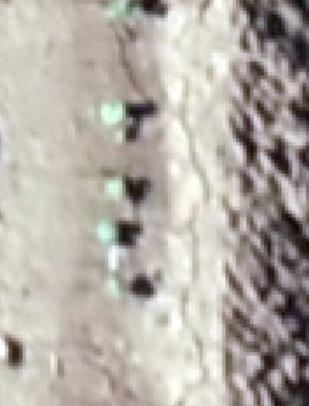cotton: (106, 2, 137, 17), (102, 103, 125, 123), (97, 223, 116, 246), (105, 275, 124, 296), (104, 181, 125, 198)
